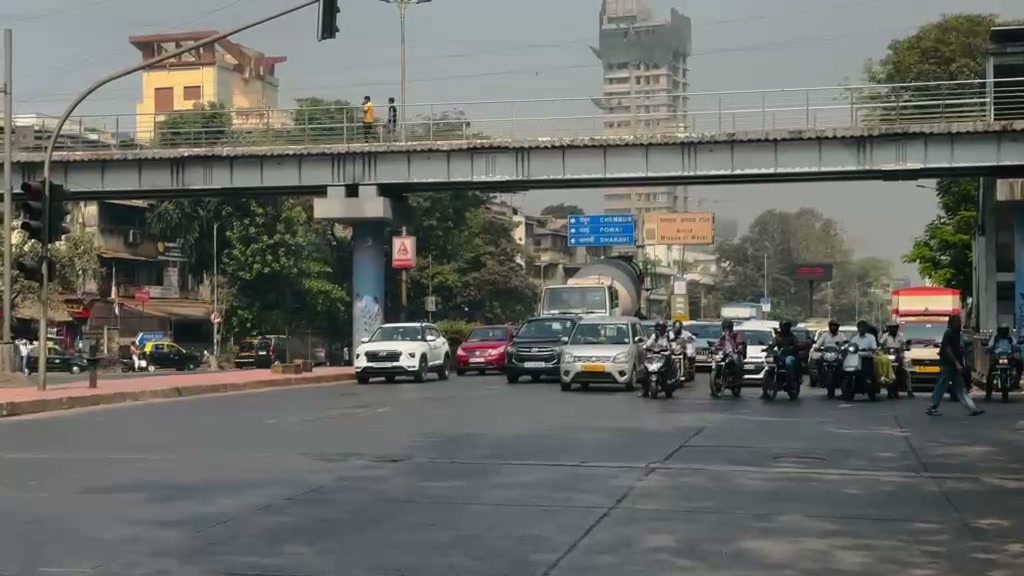car: (557, 316, 647, 392), (355, 322, 452, 384), (505, 313, 580, 385), (454, 326, 515, 376), (727, 321, 777, 379), (127, 338, 202, 373), (23, 340, 88, 375), (682, 321, 723, 355)
motorcycle: (837, 343, 893, 402), (760, 345, 804, 402), (810, 337, 848, 397), (639, 350, 679, 400), (986, 351, 1023, 402), (709, 349, 744, 400), (870, 346, 898, 401)
pedestrian: (925, 314, 983, 417), (839, 320, 880, 400), (763, 321, 811, 386), (640, 322, 676, 398), (985, 324, 1023, 395), (811, 320, 848, 389), (669, 320, 697, 378), (712, 322, 744, 370)
truck: (889, 285, 962, 369)
